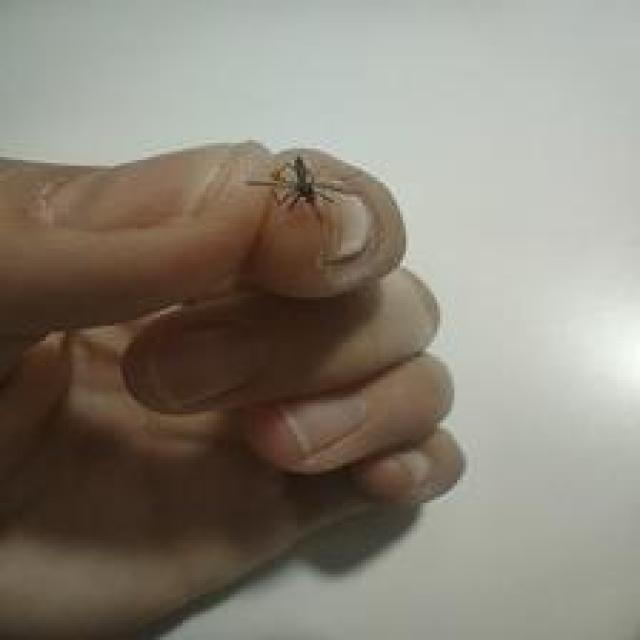Aedes albopictus: (244, 153, 347, 224)
